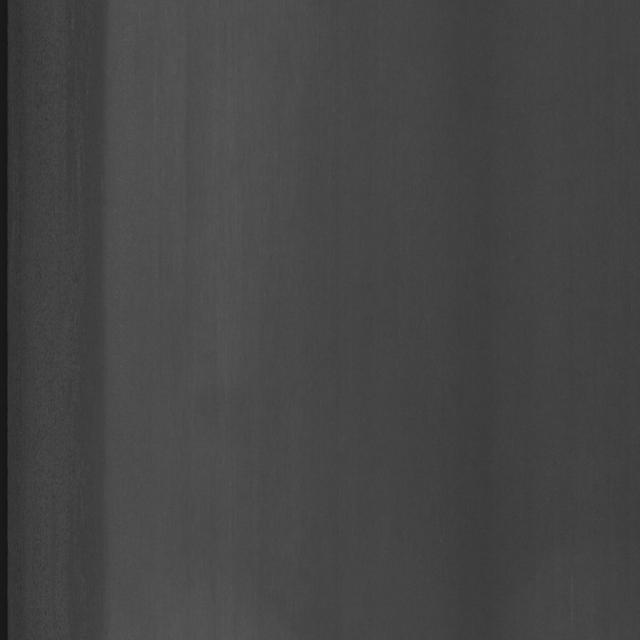inclusion: (34, 92, 105, 510)
